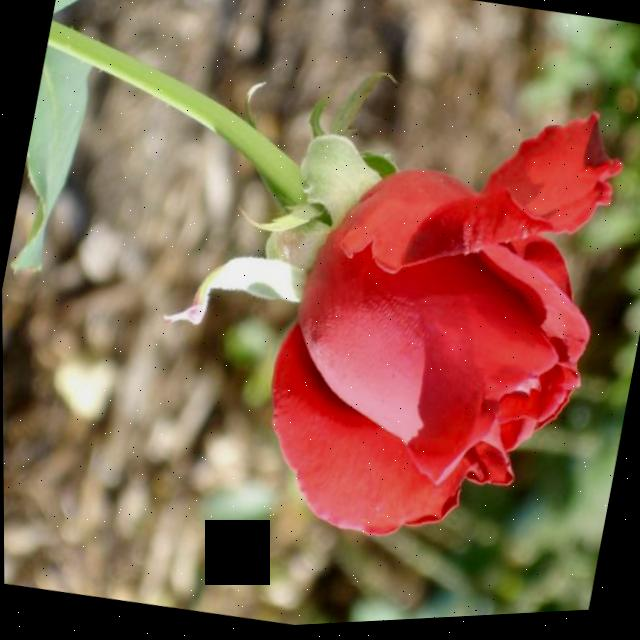rose: (208, 11, 640, 600)
